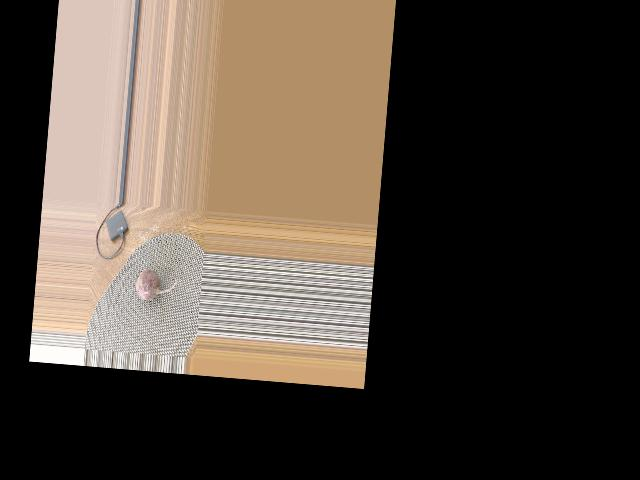beet: (135, 268, 178, 302)
